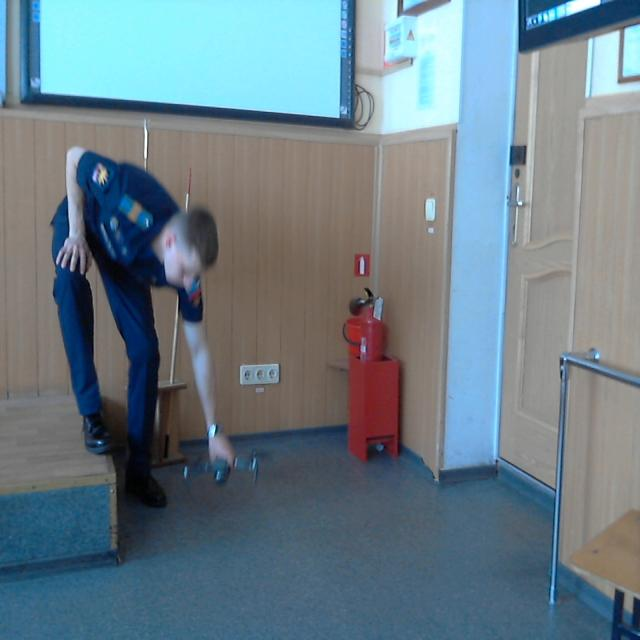drone: (167, 439, 269, 495)
